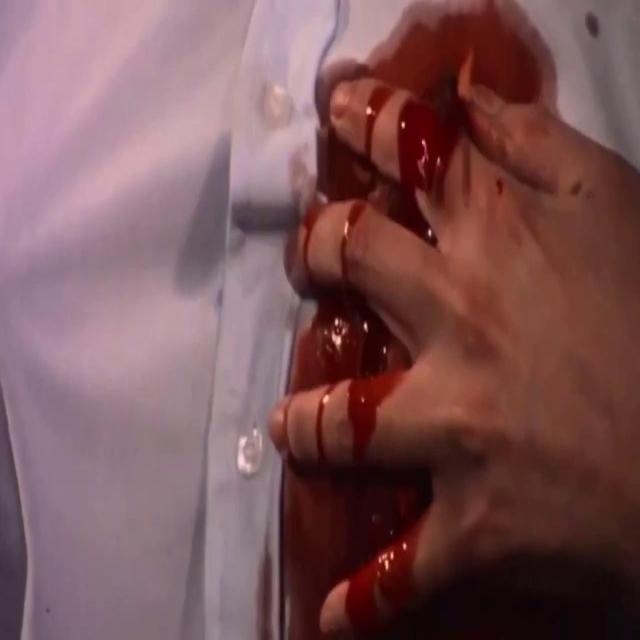flood: (314, 0, 532, 640)
